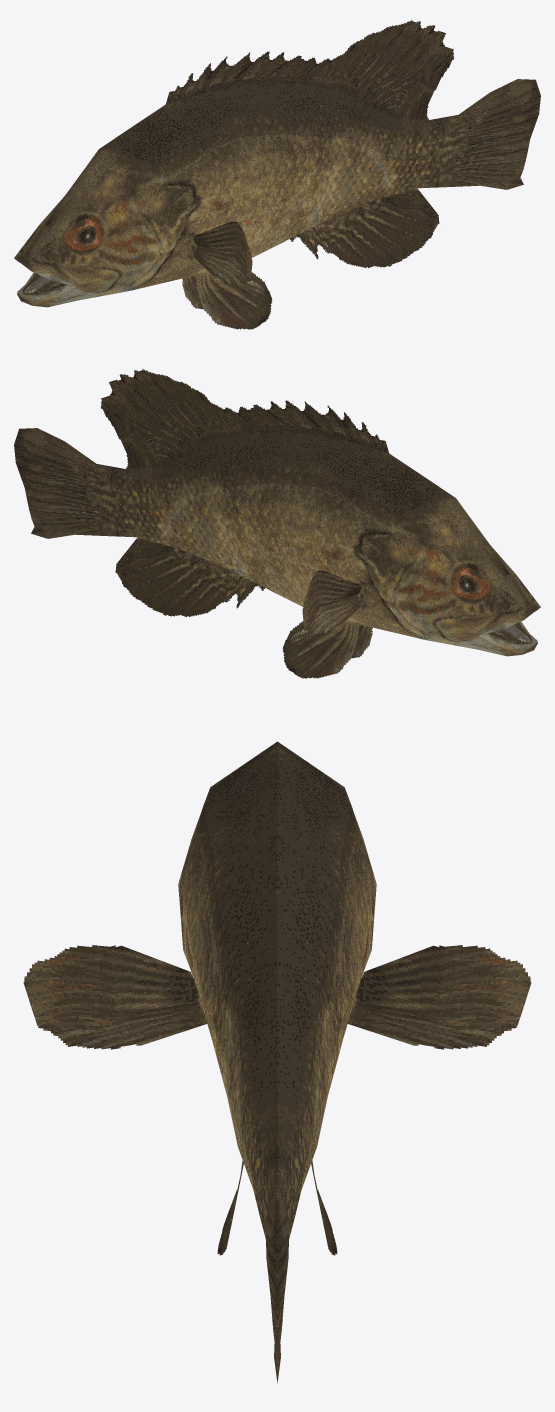
Rendered from grouper.glb.
The picture shows the model from 3 angles, top to bottom: view 1: azimuth 30°, elevation 25°; view 2: azimuth 150°, elevation 25°; view 3: azimuth 270°, elevation 25°; orthographic projection. The views are drawn at different scales.
Parts seen in each view (by area): view 1: fish_lp_0; view 2: fish_lp_0; view 3: fish_lp_0.
Part boxes in pixels (x1,y1,x2,y2): fish_lp_0: [14, 20, 540, 329]; fish_lp_0: [14, 369, 540, 678]; fish_lp_0: [23, 741, 531, 1383].
Size of the model in its own units: 1.15 by 0.5721 by 0.53.
Materials: 1 (1 with a texture image).
